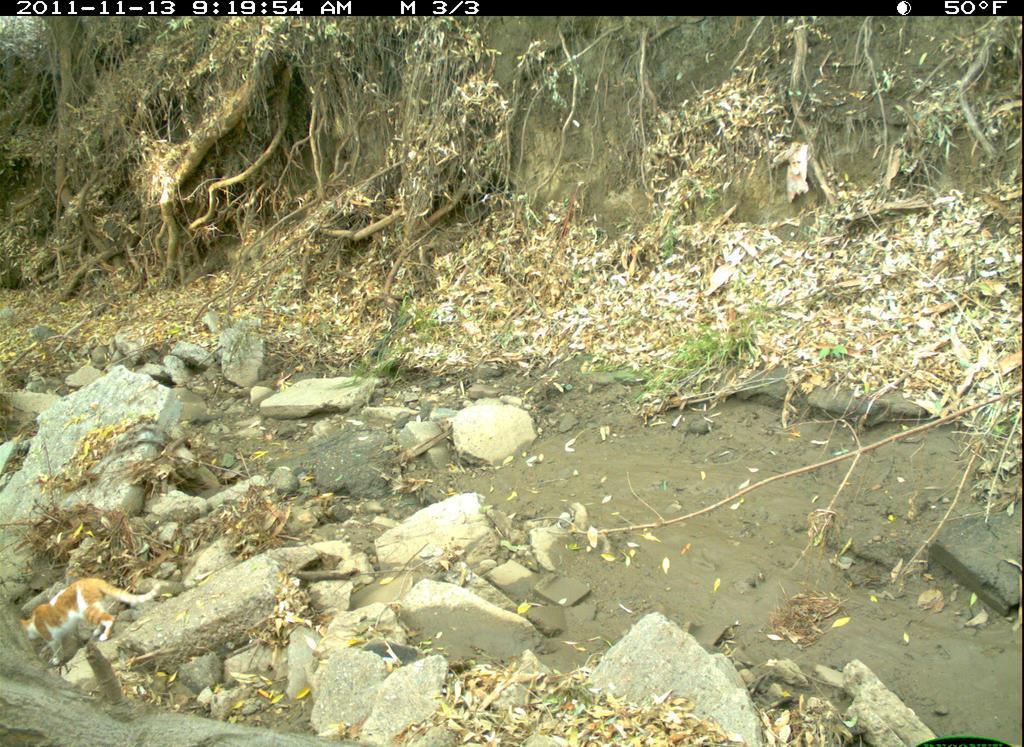cat: (11, 570, 168, 670)
